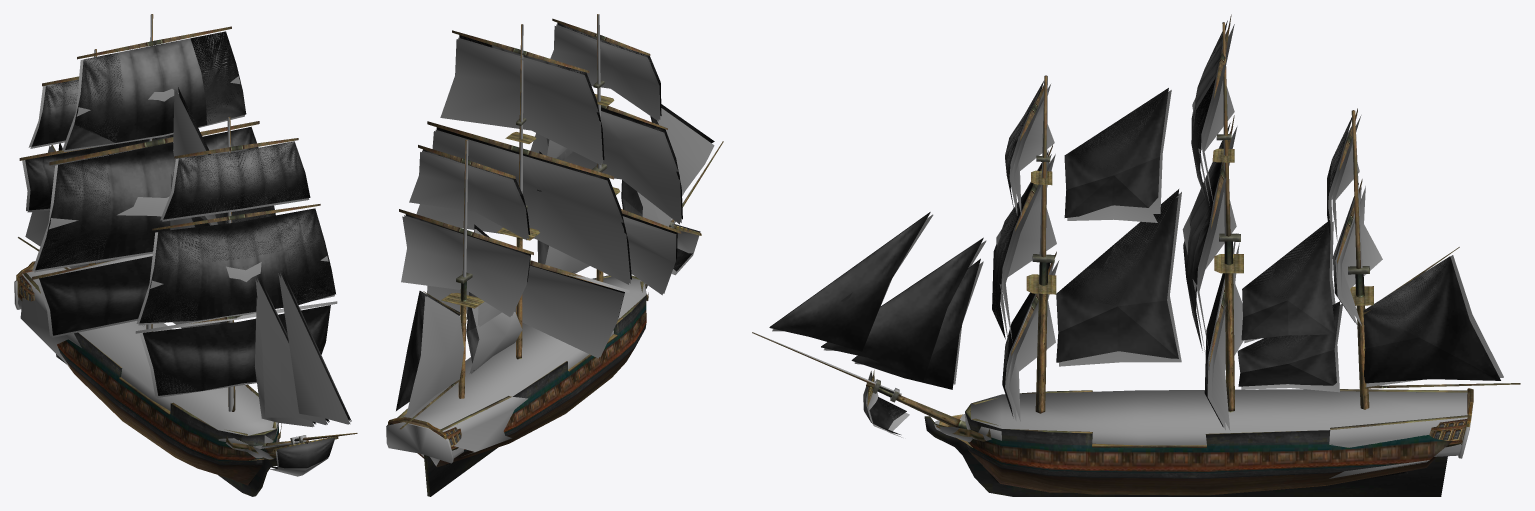
File: F_Ship_08.fbx
3 renders of one model, left to right at view 1: azimuth 30°, elevation 25°; view 2: azimuth 150°, elevation 25°; view 3: azimuth 270°, elevation 25°, orthographic. The views are drawn at different scales.
Visible parts, largest first — view 1: F_Ship_08_Sail, F_Ship_08_FakeShadow, F_Ship_08; view 2: F_Ship_08_FakeShadow, F_Ship_08, F_Ship_08_Sail; view 3: F_Ship_08_Sail, F_Ship_08_FakeShadow, F_Ship_08.
Part boxes in pixels (x1=…): F_Ship_08_Sail: x1=25, y1=31, x2=351, y2=468; F_Ship_08_FakeShadow: x1=14, y1=14, x2=357, y2=476; F_Ship_08: x1=16, y1=14, x2=357, y2=496; F_Ship_08_FakeShadow: x1=386, y1=14, x2=720, y2=466; F_Ship_08: x1=388, y1=14, x2=723, y2=496; F_Ship_08_Sail: x1=396, y1=23, x2=714, y2=410; F_Ship_08_Sail: x1=769, y1=20, x2=1500, y2=434; F_Ship_08_FakeShadow: x1=752, y1=22, x2=1503, y2=478; F_Ship_08: x1=752, y1=14, x2=1520, y2=496.
Bounding box in the file's own units: 0.3991 × 0.6716 × 0.9889.
3 materials, 2 textured.
